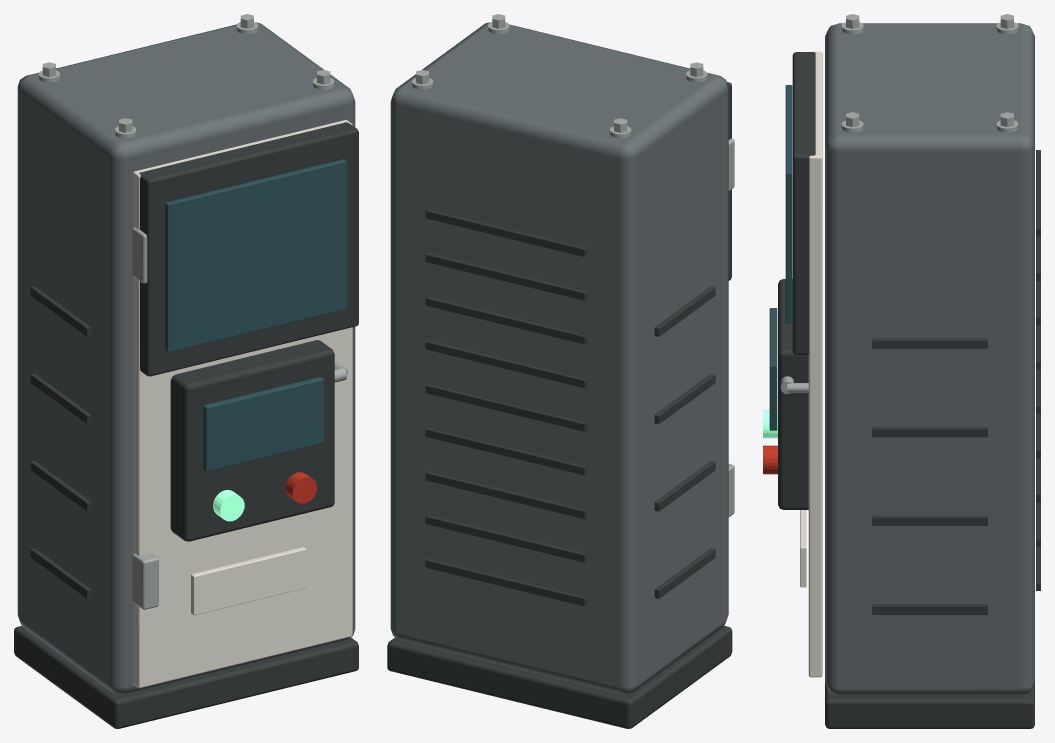
Rendered from automated-parking-and-vehicle-retrieval-automated-park-acdbf93f__30349.glb.
3 renders of one model, left to right at view 1: azimuth 30°, elevation 25°; view 2: azimuth 150°, elevation 25°; view 3: azimuth 270°, elevation 25°, orthographic.
Visible parts, largest first — view 1: automated-parking-and-vehicle-retrieval-driver-instruction-k (×7); view 2: automated-parking-and-vehicle-retrieval-driver-instruction-k (×3); view 3: automated-parking-and-vehicle-retrieval-driver-instruction-k (×5).
Part boxes in pixels (box(x1,y1,x2,y2)): automated-parking-and-vehicle-retrieval-driver-instruction-k (×7): box(14, 14, 358, 728); automated-parking-and-vehicle-retrieval-driver-instruction-k (×3): box(387, 14, 734, 728); automated-parking-and-vehicle-retrieval-driver-instruction-k (×5): box(769, 14, 1040, 728).
Size of the model in its own units: 0.542 by 1.21 by 0.5025.
